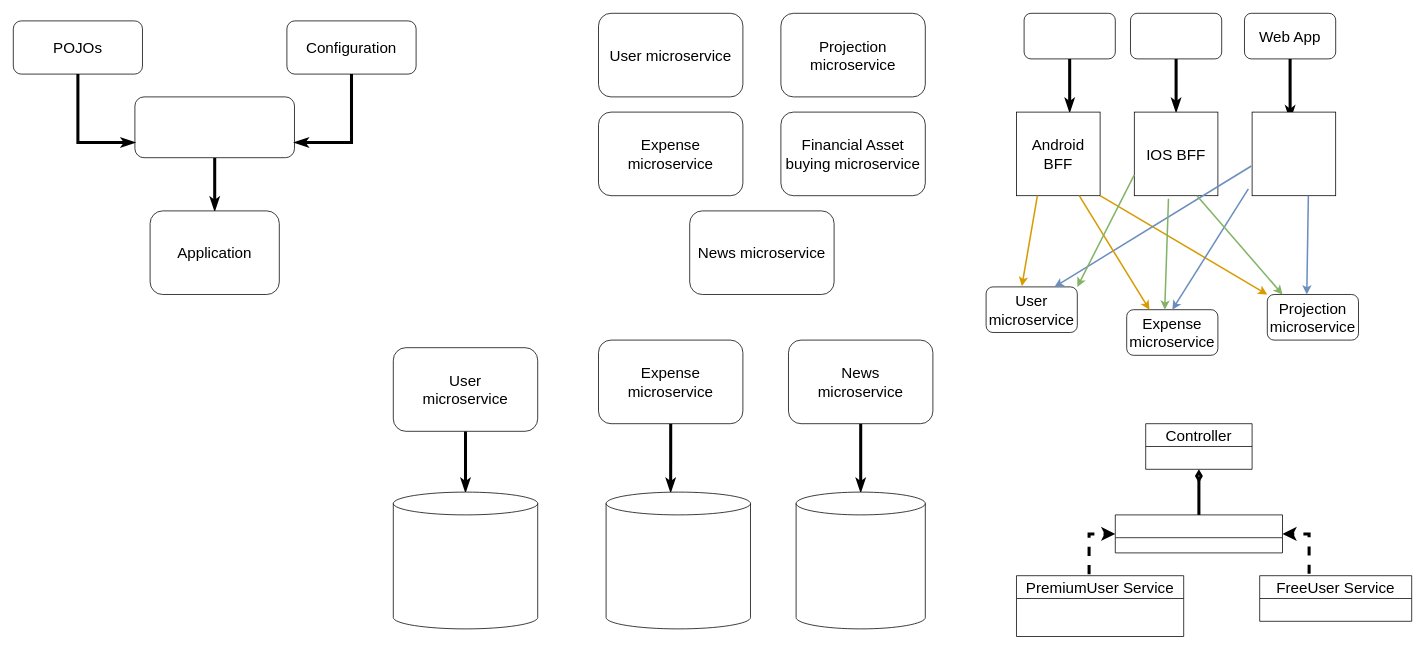
The diagram is 1425 pixels wide and 650 high, and some of its shapes have lost their labels. The shapes that lost their labels are listed below. From the top down, each one's box as (x1, y1, x2, y2) in pixels, then its label:
(1023, 13, 1115, 59): Android App
(1130, 13, 1222, 59): IOS App
(134, 96, 294, 158): IoC Container
(1251, 111, 1336, 196): Web BFF
(1115, 514, 1282, 553): <<interface>> Service
(393, 491, 538, 629): User Database RDMS: PostgreSQL
(605, 491, 750, 629): Expense Database RDMS: PostgreSQL
(795, 491, 925, 629): News Storage In-memory: Redis
